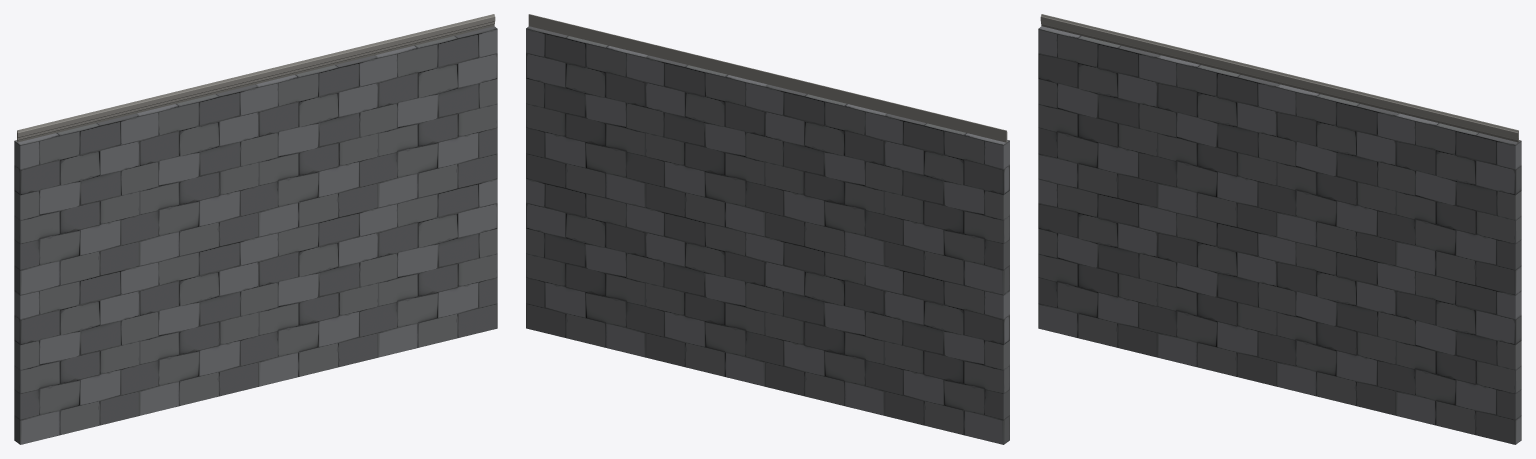
Rendered from crypt_wall_a.gltf.
3 views of the same model, side by side, from view 1: azimuth 30°, elevation 25°; view 2: azimuth 150°, elevation 25°; view 3: azimuth 330°, elevation 25° (orthographic).
Visible parts, largest first — view 1: crypt_wall_a; view 2: crypt_wall_a; view 3: crypt_wall_a.
Part boxes in pixels (box(x1,y1,x2,y2)): crypt_wall_a: box(14, 14, 497, 444); crypt_wall_a: box(526, 14, 1009, 444); crypt_wall_a: box(1038, 14, 1521, 444).
Size of the model in its own units: 10 by 6.24 by 0.225.
Materials: 2 (2 with a texture image).
